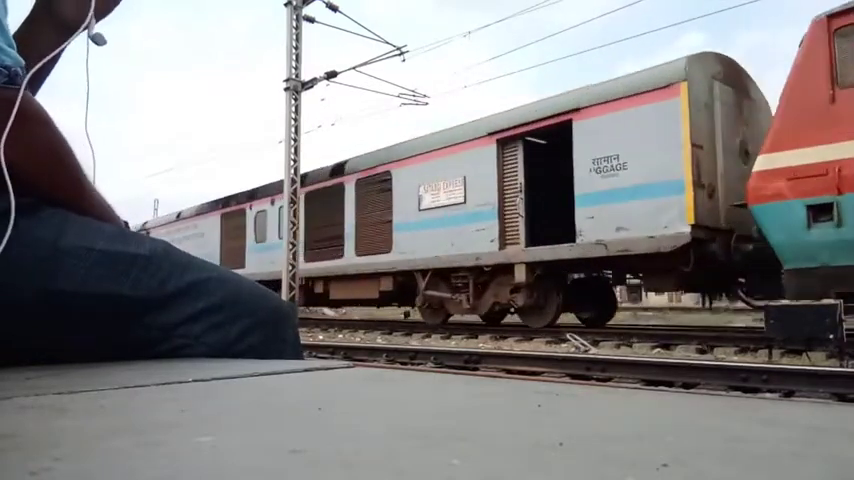Car Type: (584, 151, 651, 184)
